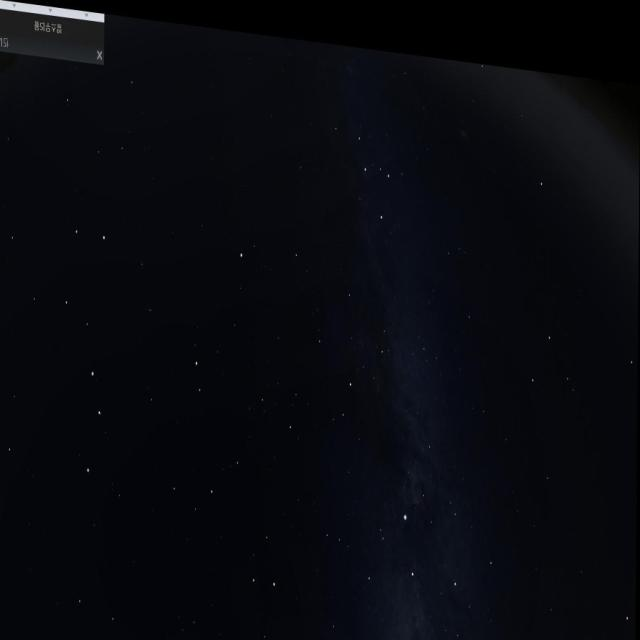cassiopeia: (322, 83, 410, 226)
cygnus: (362, 482, 465, 640)
ursa_major: (52, 186, 124, 505)
